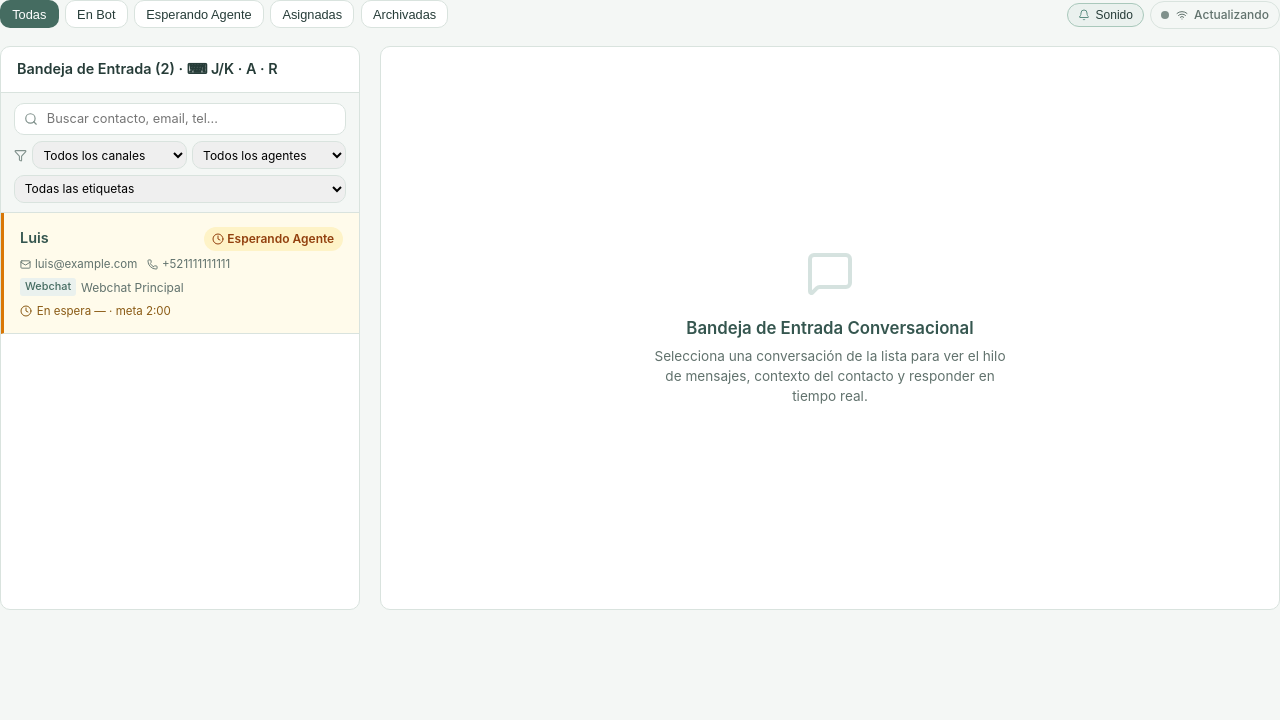
Scenario: ConversationsView Responsive Behavior › renders only one row per contact in the inbox list and displays session dividers in thread
Expected: the element with test id "inbox-conversation-list-panel" is shown, [0,46,360,610]
Expected: the text "Luis" is shown, [20,228,49,249]
// Click on the conversation to load thread
Step 1. Click the element with test id "conversation-item" → point(180, 274), box [1,213,359,334]
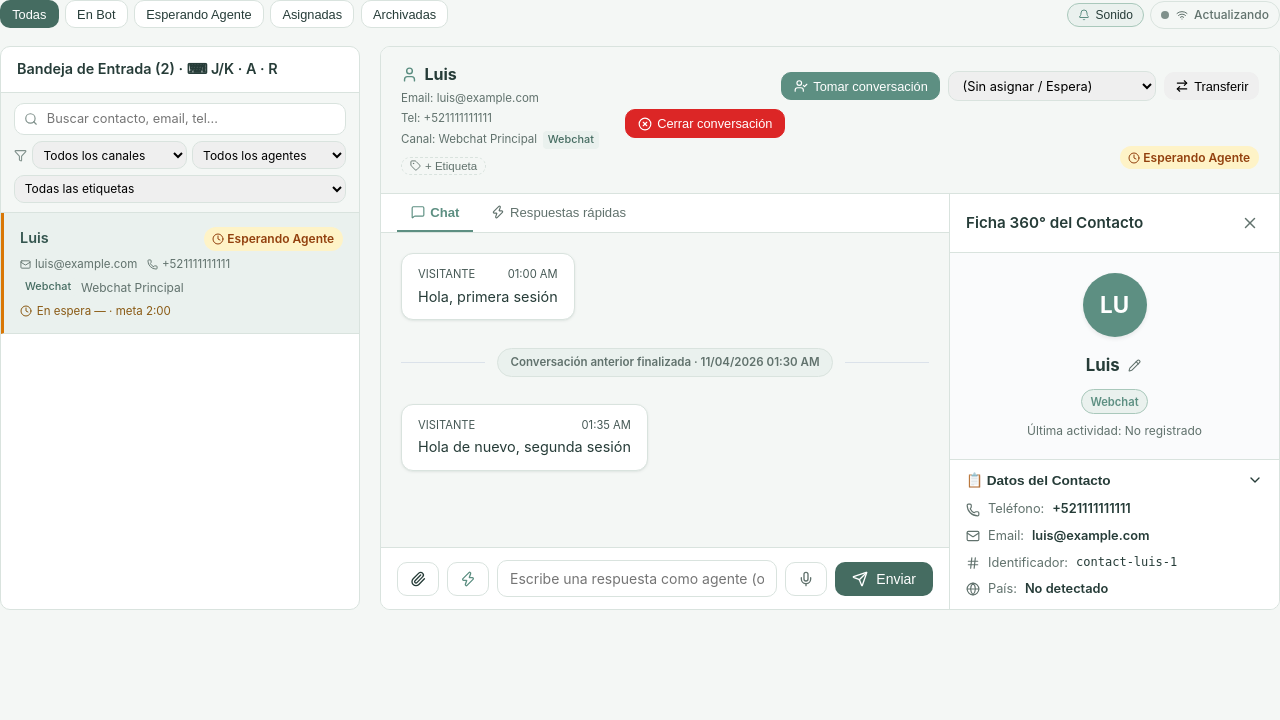
Result: the text "Hola, primera sesión" is shown at [418,286,558,307]
Result: the text "Conversación anterior finalizada · 11/04/2026 01:30 AM" is shown at [497,348,833,377]
Result: the text "Hola de nuevo, segunda sesión" is shown at [418,437,631,458]
